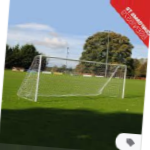goals: (16, 54, 129, 106)
